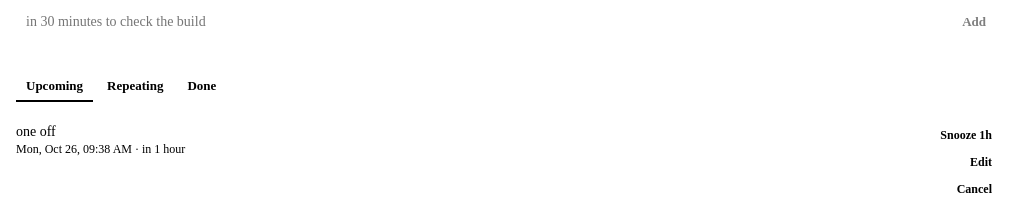
RemindersSidebar › tabs › an empty tab explains itself rather than showing nothing
Expected: the text "one off" is shown, 16,124 -> 56,139
Click the tab "Repeating". click: (135,87)
box: 97,72 -> 173,102
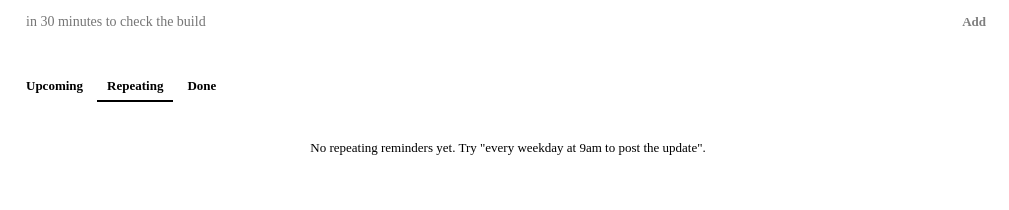
Expected: the text "No repeating reminders yet" is shown, 310,140 -> 706,155
